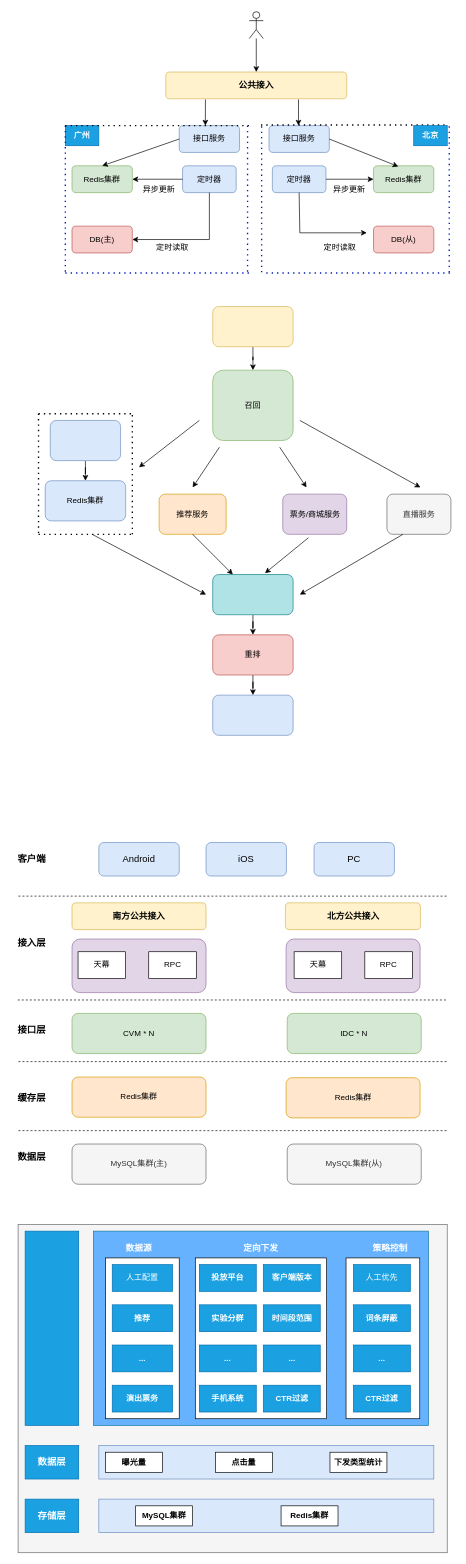
Image size: 466x1564. Some labels were removed from this diagram. Each missing label, with the box of its shape:
业务层: (24, 1230, 79, 1425)
人工数据: (50, 420, 121, 461)
前端展示: (212, 694, 293, 735)
前端搜索词触发: (212, 306, 293, 347)
用户: (249, 11, 263, 39)
过滤: (212, 574, 293, 615)
